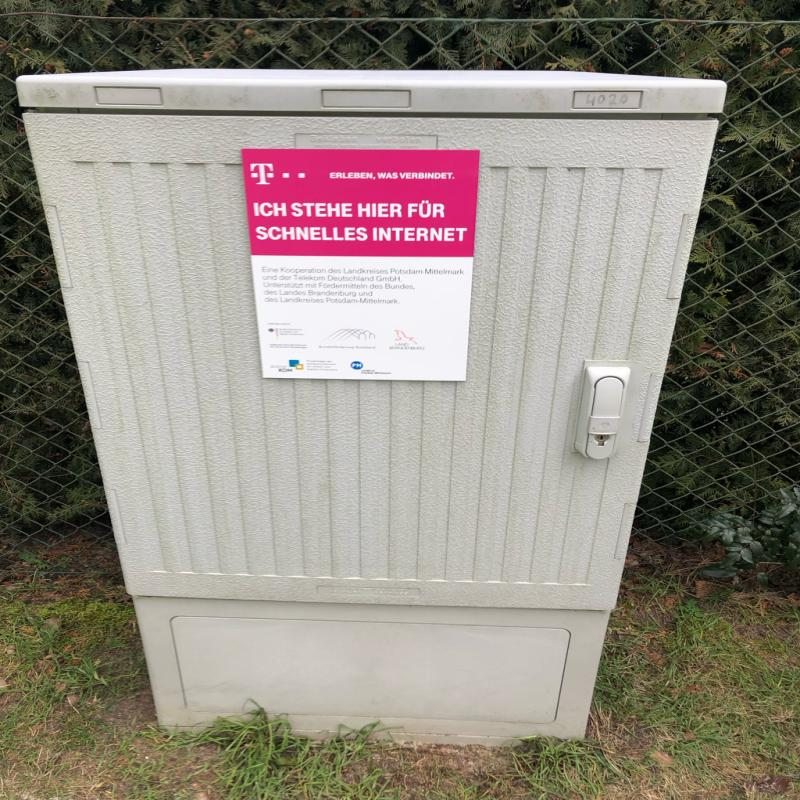NT-Gehause: (17, 69, 723, 744)
Steaker: (245, 149, 471, 381)
